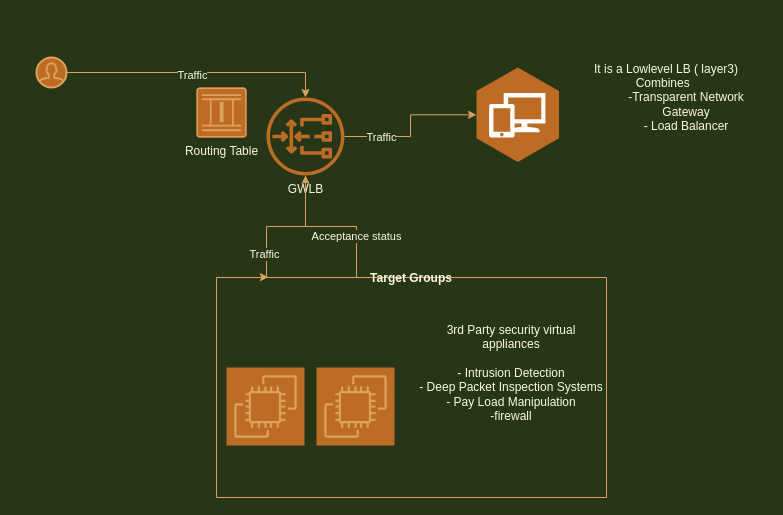
Some shapes in this 783 by 515 pixel diagram are drawn without their labels. The shapes that lost their labels are listed below. From the top down, each one's centre as x and y in pixels, then its label:
the point at 51,72: User Groups
the point at 517,114: Application
